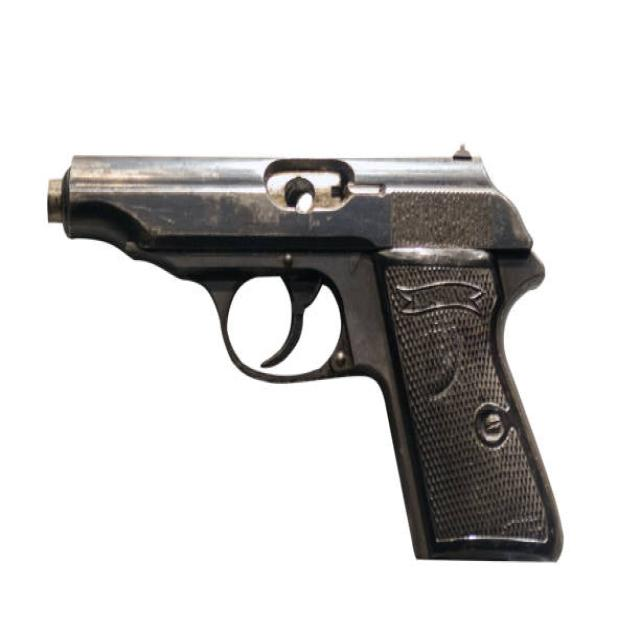pistol: (40, 142, 570, 575)
